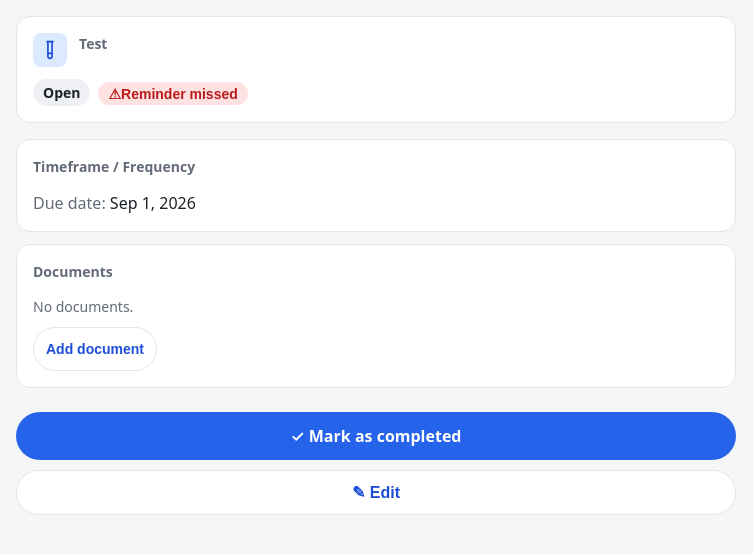
Test: TaskDetailScreen › shows a missed-reminder marker with the exact reason available on tap, when the task has one (issue #10)
Expected: the text "The reminder window closed before it could be sent." is not shown
Click the button "⚠ Reminder missed" at (173, 94), box top-left (98, 82), bottom-right (248, 105)
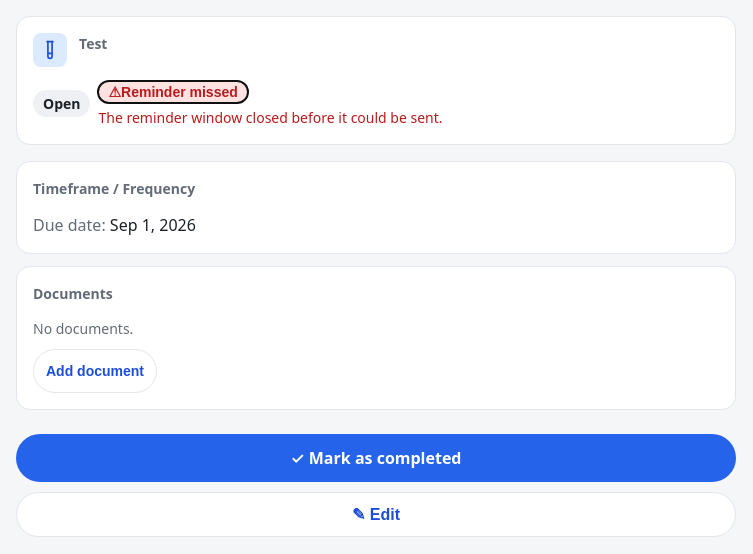
Now the text "The reminder window closed before it could be sent." is shown, box top-left (98, 107), bottom-right (443, 128)
